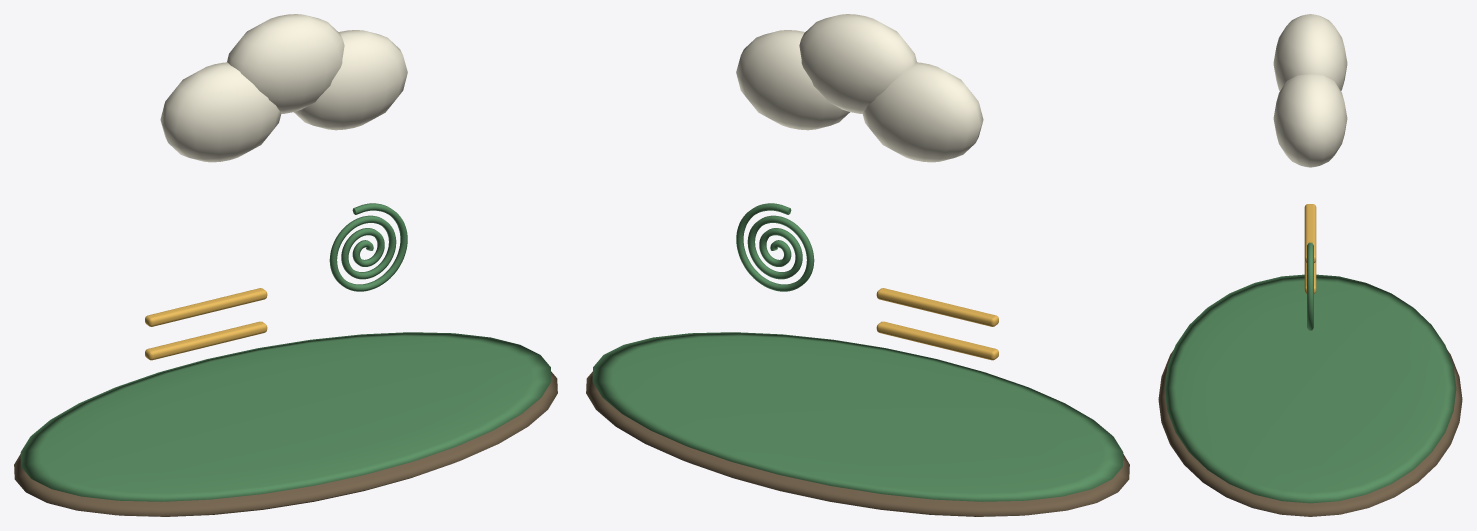
Rendered from cloud.glb.
The picture shows the model from 3 angles, left to right: view 1: azimuth 30°, elevation 25°; view 2: azimuth 150°, elevation 25°; view 3: azimuth 270°, elevation 25°; orthographic projection. The views are drawn at different scales.
Parts seen in each view (by area): view 1: cloud_surface_01, cloud_surface_03, cloud_surface_00, cloud_surface_02; view 2: cloud_surface_01, cloud_surface_03, cloud_surface_00, cloud_surface_02; view 3: cloud_surface_01, cloud_surface_03, cloud_surface_00, cloud_surface_02.
Part boxes in pixels (x1,y1,x2,y2): cloud_surface_01: (20, 203, 551, 501); cloud_surface_03: (160, 14, 407, 162); cloud_surface_00: (14, 371, 557, 516); cloud_surface_02: (145, 288, 267, 360); cloud_surface_01: (592, 203, 1123, 501); cloud_surface_03: (736, 14, 983, 162); cloud_surface_00: (586, 371, 1129, 516); cloud_surface_02: (876, 288, 998, 360); cloud_surface_01: (1164, 242, 1456, 503); cloud_surface_03: (1273, 14, 1347, 167); cloud_surface_00: (1158, 350, 1462, 516); cloud_surface_02: (1304, 204, 1316, 293).
Size of the model in its own units: 4.56 by 3.57 by 2.5.
